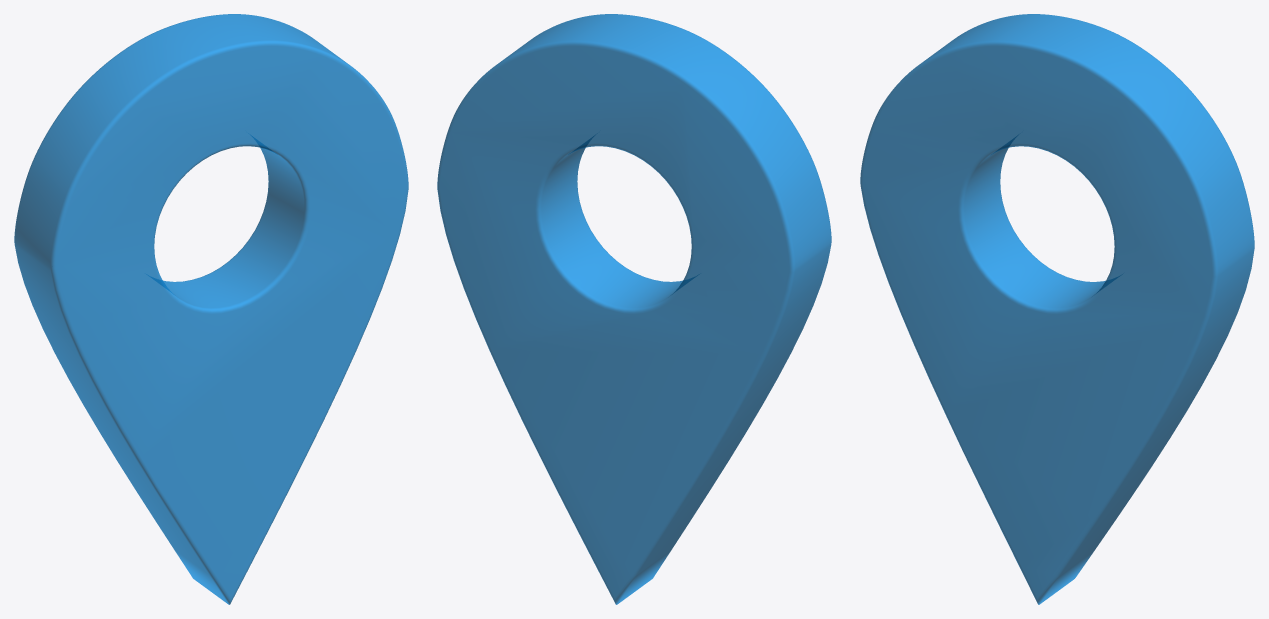
Rendered from targetv2.glb.
3 views of the same model, side by side, from view 1: azimuth 30°, elevation 25°; view 2: azimuth 150°, elevation 25°; view 3: azimuth 330°, elevation 25° (orthographic).
Visible parts, largest first — view 1: Line003; view 2: Line003; view 3: Line003.
Part boxes in pixels (left/top/right/bottom): Line003: left=14, top=14, right=408, bottom=604; Line003: left=437, top=14, right=831, bottom=604; Line003: left=860, top=14, right=1254, bottom=604.
Bounding box in the file's own units: 0.6753 × 1.01 × 0.1303.
